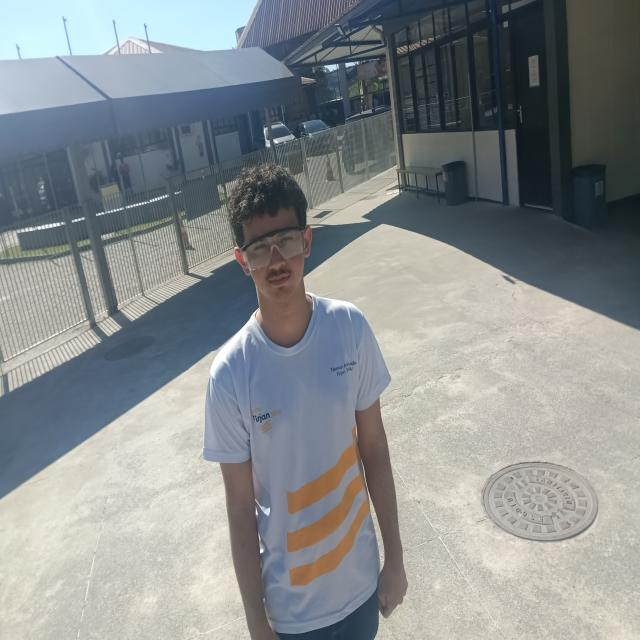oculos-epi: (240, 226, 303, 270)
